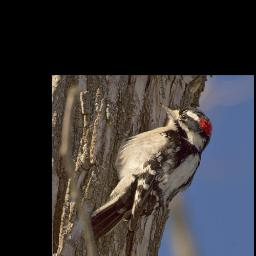Woodpecker: (90, 104, 213, 241)
